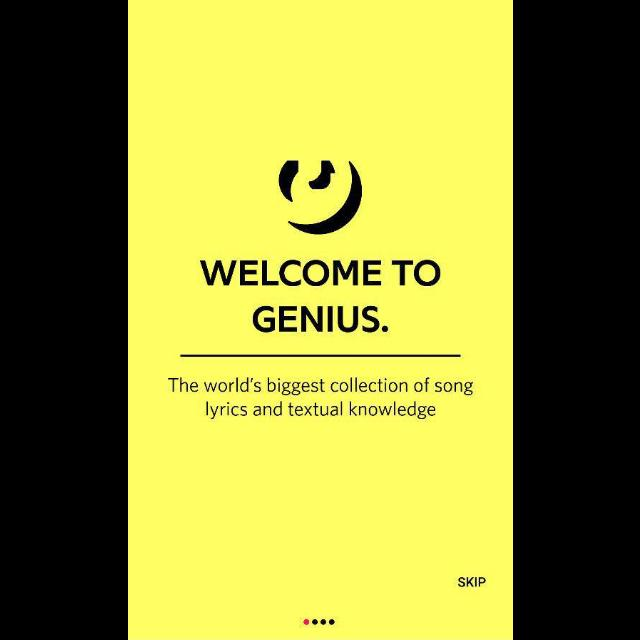image: (278, 160, 362, 236)
pageindicator: (302, 618, 336, 626)
text: (199, 260, 441, 334), (167, 376, 473, 419), (455, 574, 487, 588)
